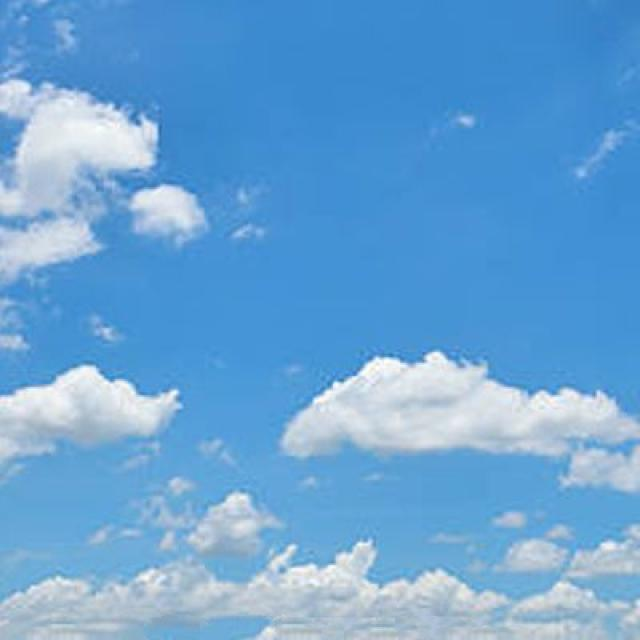Cu: (1, 89, 635, 504)
